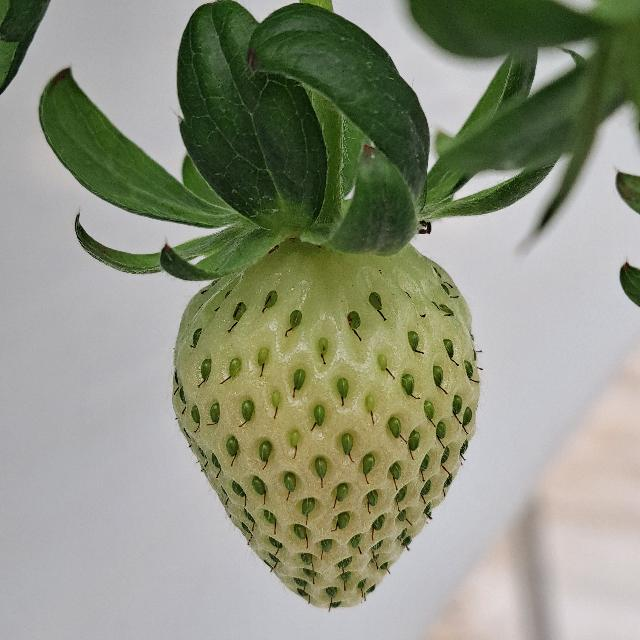Health_25: (172, 242, 480, 608)
